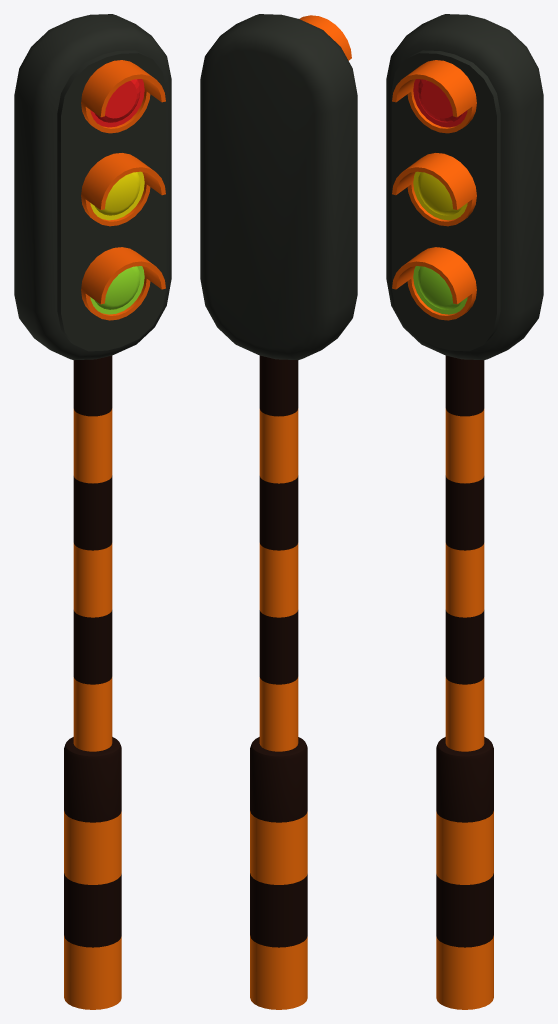
File: TrafficLight.fbx
3 views of the same model, side by side, from view 1: azimuth 30°, elevation 25°; view 2: azimuth 150°, elevation 25°; view 3: azimuth 330°, elevation 25° (orthographic).
Visible parts, largest first — view 1: Cylinder.002; view 2: Cylinder.002; view 3: Cylinder.002.
Boxes of the visible parts, x1,y1,x2,y2 form: Cylinder.002: [14, 14, 171, 1009]; Cylinder.002: [200, 14, 357, 1009]; Cylinder.002: [386, 14, 543, 1009].
Size of the model in its own units: 40.82 by 278 by 29.69.
Materials: 1 (1 with a texture image).
